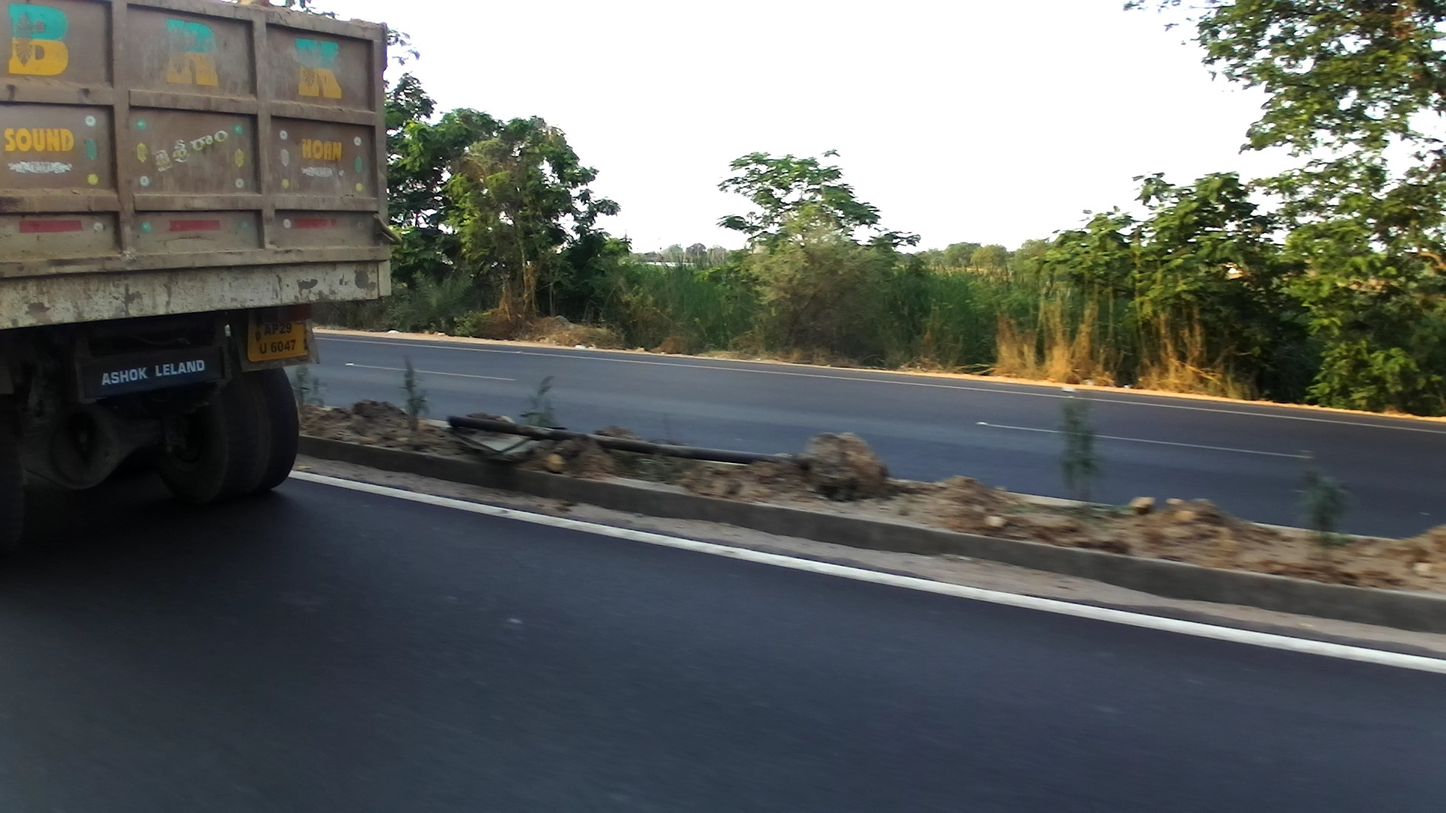truck: (1, 1, 400, 558)
